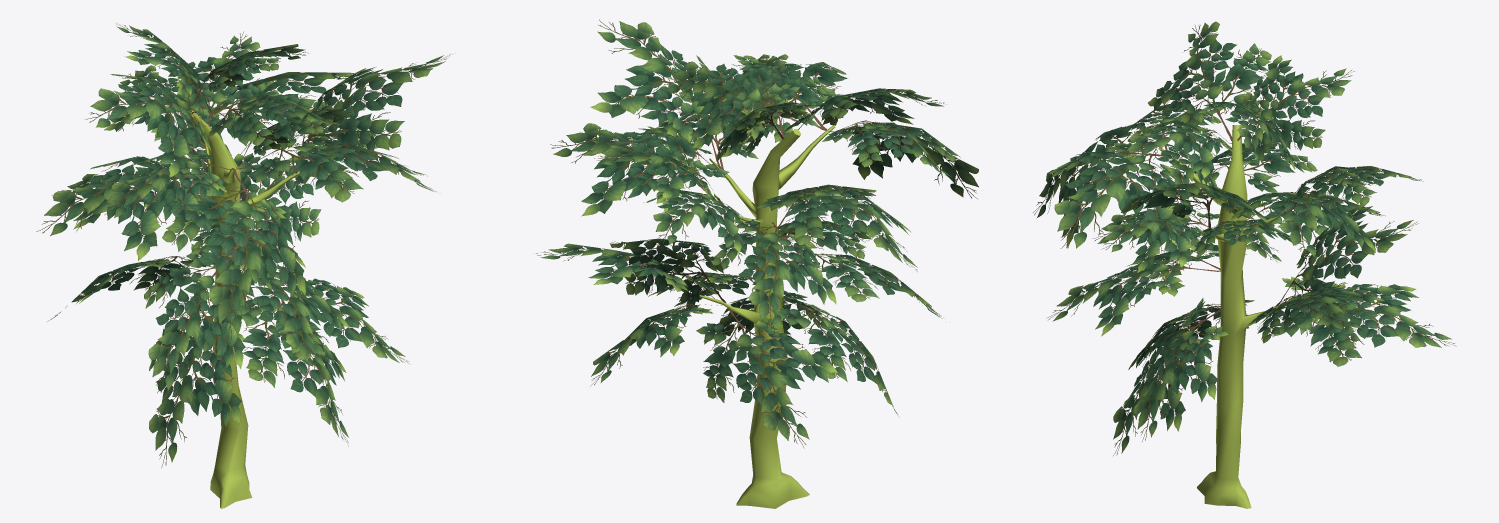
File: Low Poly Tree 2.FBX
The picture shows the model from 3 angles, left to right: view 1: azimuth 30°, elevation 25°; view 2: azimuth 150°, elevation 25°; view 3: azimuth 270°, elevation 25°; orthographic projection. The views are drawn at different scales.
Parts seen in each view (by area): view 1: Plane038, Plane048, Cylinder002, Plane072, Plane047, Plane049, Plane030, Plane071, Plane036, Plane051, Plane025, Plane037 (+14 smaller); view 2: Cylinder002, Plane028, Plane047, Plane041, Plane050, Plane040, Plane049, Plane029, Plane072, Plane038, Plane042, Plane026 (+15 smaller); view 3: Cylinder002, Plane036, Plane030, Plane026, Plane031, Plane025, Plane029, Plane051, Plane041, Plane071, Plane027, Plane044 (+15 smaller).
Part boxes in pixels (<box>): Plane038: <box>162,170,305,341</box>; Plane048: <box>144,244,246,393</box>; Cylinder002: <box>188,113,299,508</box>; Plane072: <box>149,289,245,467</box>; Plane047: <box>295,54,452,173</box>; Plane049: <box>36,156,201,260</box>; Plane030: <box>85,74,211,177</box>; Plane071: <box>231,295,348,446</box>; Plane036: <box>236,137,436,202</box>; Plane051: <box>213,255,349,373</box>; Plane025: <box>241,274,410,364</box>; Plane037: <box>104,152,233,227</box>; Cylinder002: <box>699,125,835,508</box>; Plane028: <box>696,307,838,448</box>; Plane047: <box>590,19,727,169</box>; Plane041: <box>550,123,729,216</box>; Plane050: <box>711,219,836,332</box>; Plane040: <box>662,55,799,148</box>; Plane049: <box>756,187,917,271</box>; Plane029: <box>609,238,728,309</box>; Plane072: <box>774,299,897,414</box>; Plane038: <box>830,120,978,198</box>; Plane042: <box>646,190,746,253</box>; Plane026: <box>591,304,722,385</box>; Cylinder002: <box>1160,125,1302,508</box>; Plane036: <box>1049,143,1189,248</box>; Plane030: <box>1148,21,1271,141</box>; Plane026: <box>1273,283,1456,366</box>; Plane031: <box>1237,55,1354,162</box>; Plane025: <box>1133,307,1228,441</box>; Plane029: <box>1275,204,1418,332</box>; Plane051: <box>1046,253,1221,336</box>; Plane041: <box>1230,192,1375,257</box>; Plane071: <box>1113,298,1221,455</box>; Plane027: <box>1247,287,1384,343</box>; Plane044: <box>1124,120,1235,178</box>.
Size of the model in its own units: 634 by 646 by 651.
